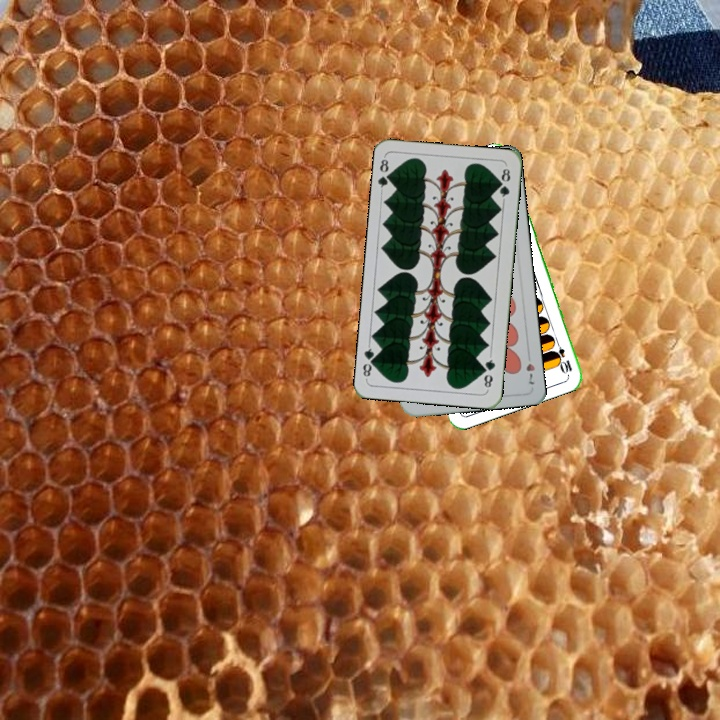E10: (550, 336, 575, 376)
G8: (374, 153, 395, 194), (479, 352, 498, 392)
H7: (522, 348, 537, 387)
